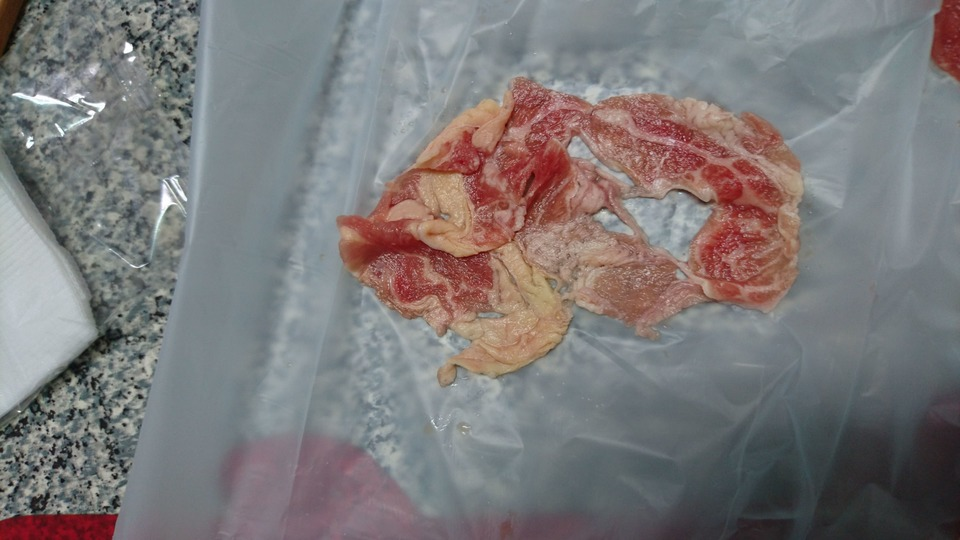restructured meat: (326, 91, 807, 407)
